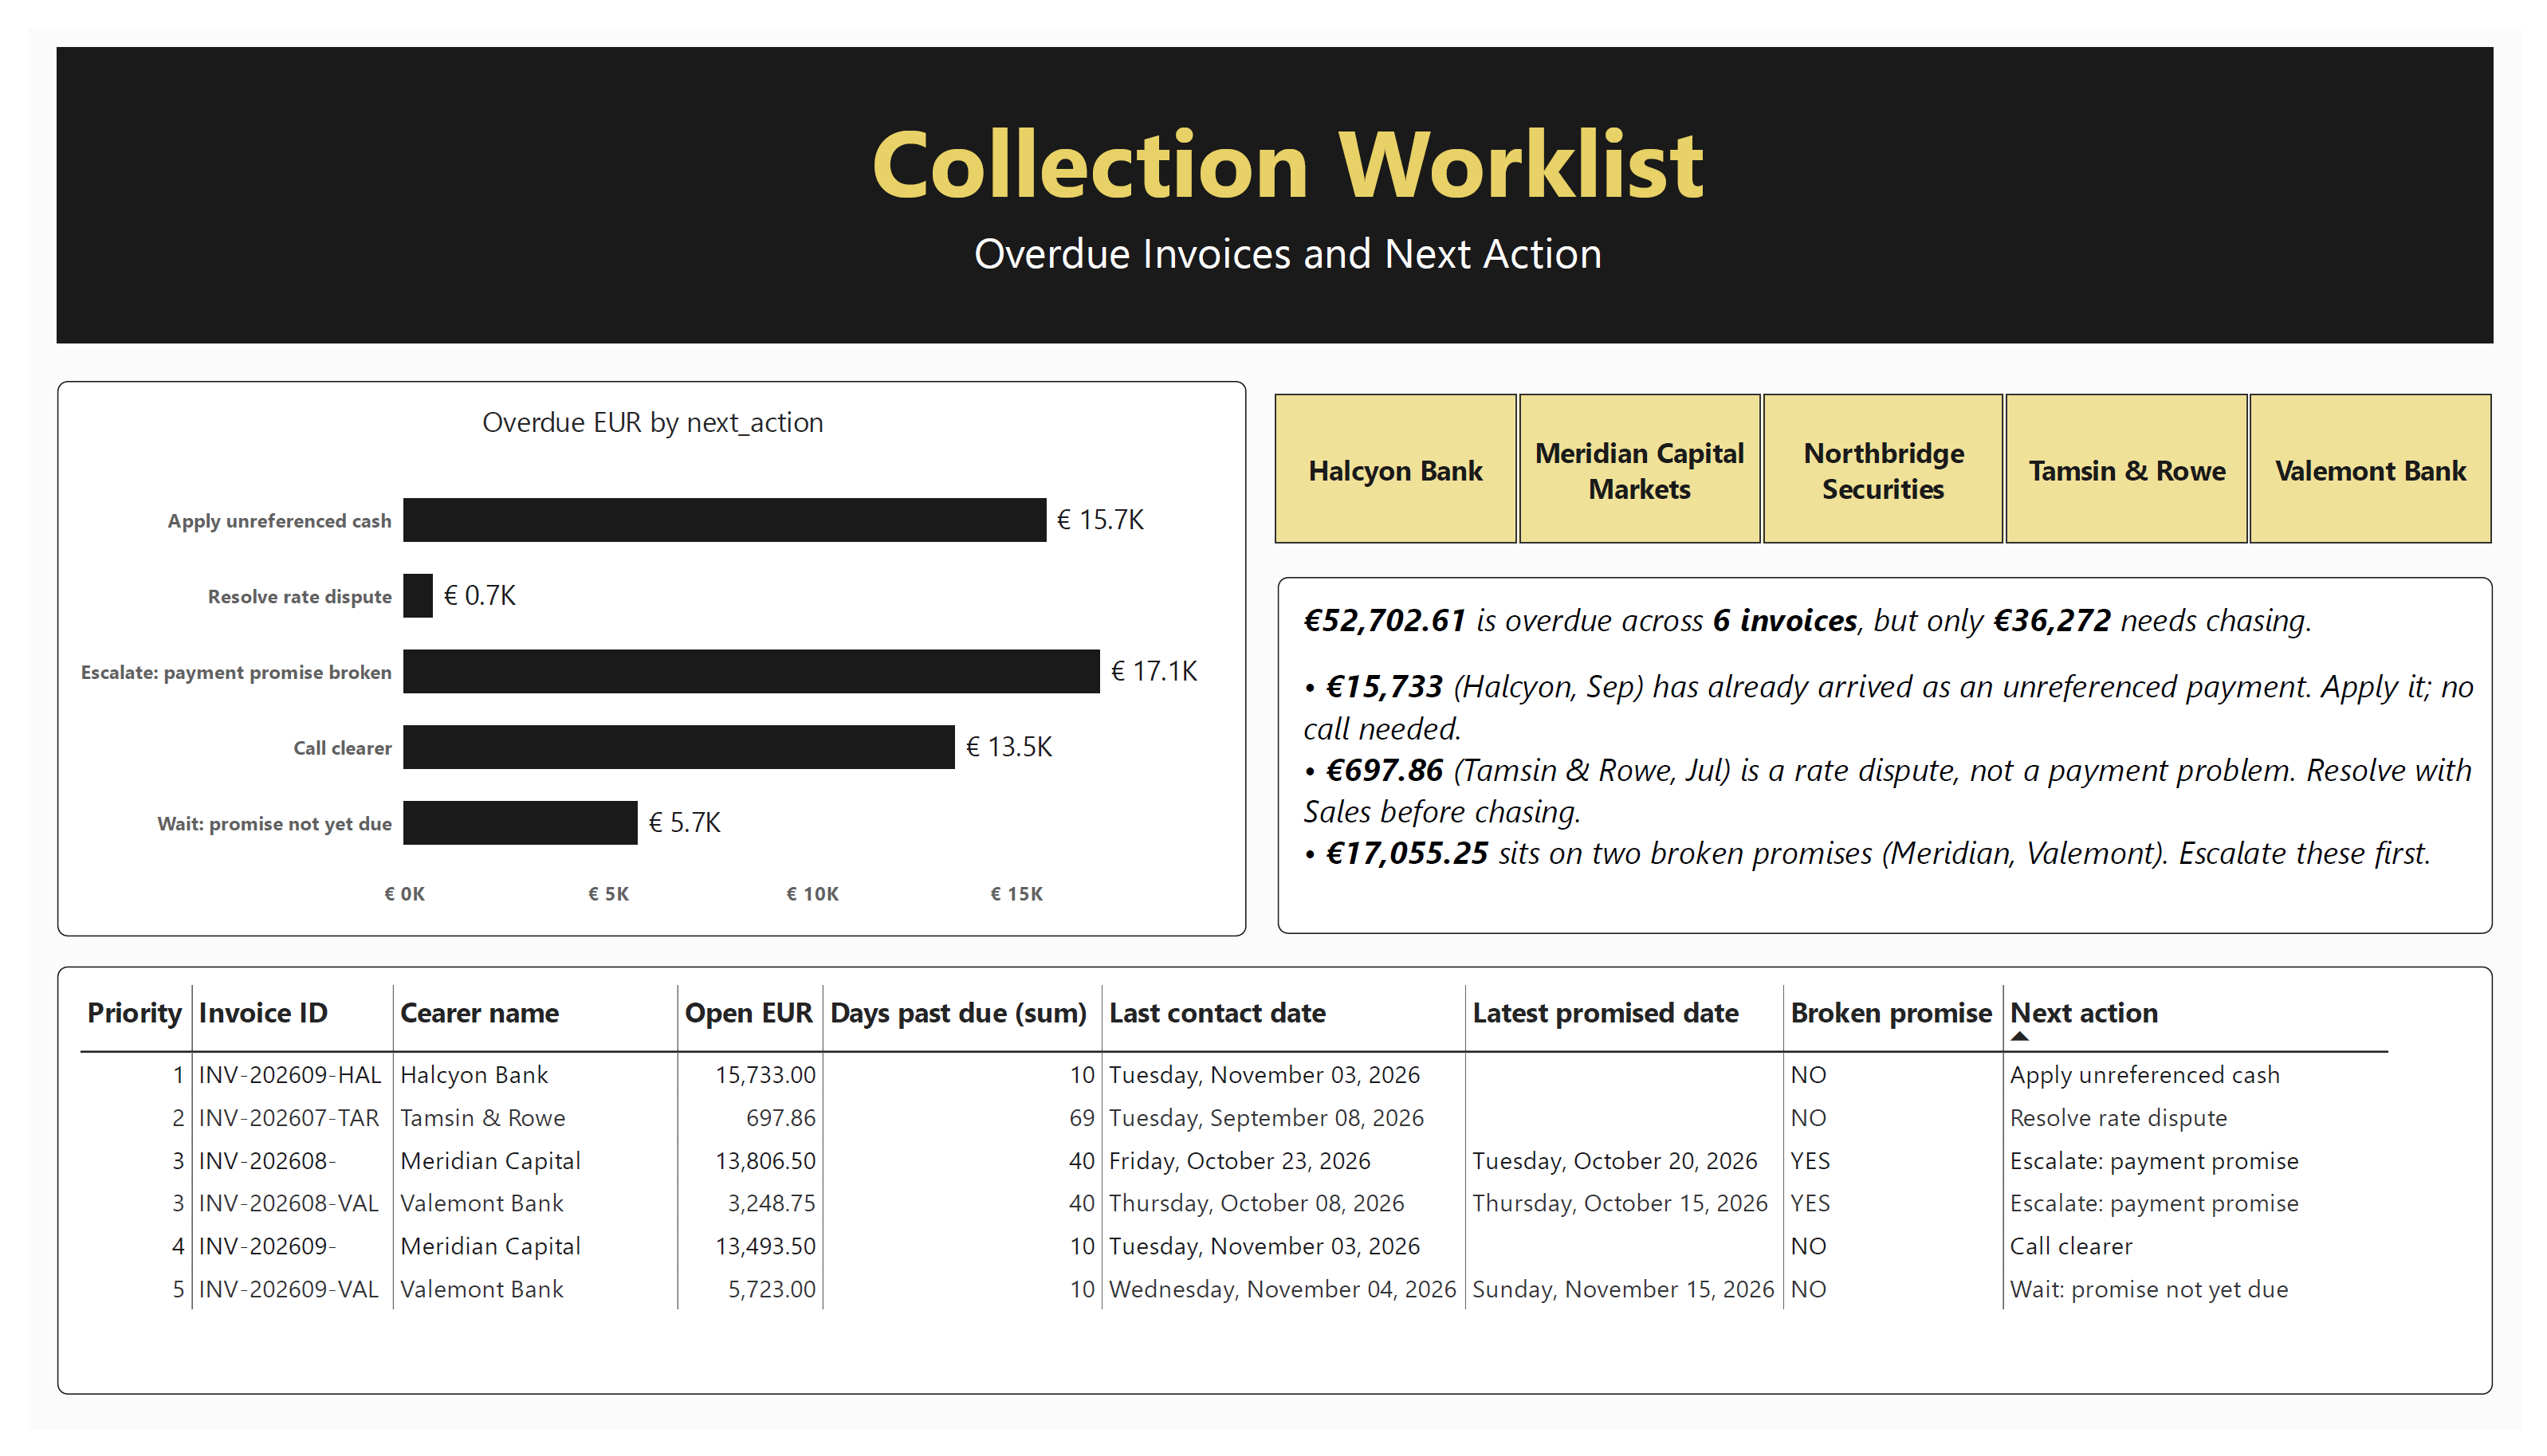

The page's visual inventory and layout, read from the dashboard file:
{"tool":"powerbi","page":{"name":"Collection worklist","canvas":[1920,1080],"ordinal":2},"visuals":[{"type":"textbox","box":[22.1,14.7,1875.5,228.2],"z":0},{"type":"slicer","fields":{"Values":["clearers.clearer_name"]},"box":[938.7,272.4,977.3,134.4],"z":1000},{"type":"clusteredBarChart","fields":{"Category":["collection_worklist.next_action"],"Y":["_Measures.Overdue EUR"]},"box":[21.7,271.7,916.7,428.3],"z":2000},{"type":"tableEx","fields":{"Values":["collection_worklist.priority","collection_worklist.invoice_id","collection_worklist.clearer_name","Sum(collection_worklist.open_eur)","Sum(collection_worklist.days_past_due)","collection_worklist.last_contact_date.Variation.Date Hierarchy.Month","collection_worklist.latest_promised_date.Variation.Date Hierarchy.Month","collection_worklist.broken_promise","collection_worklist.next_action"]},"box":[21.7,723.3,1876.7,330],"z":3000},{"type":"textbox","box":[961.7,423.3,936.7,275],"z":4000}]}

Visuals, with their boxes in screenshot pixels (x1, y1, x2, y2), scaled from the page's 1920x1080 canvas onto the 2547x1456 screenshot:
textbox: bbox(29, 20, 2518, 328)
slicer - clearers.clearer_name: bbox(1245, 367, 2541, 548)
clusteredBarChart - collection_worklist.next_action x _Measures.Overdue EUR: bbox(29, 367, 1245, 944)
tableEx - collection_worklist.priority x collection_worklist.invoice_id: bbox(29, 975, 2518, 1420)
textbox: bbox(1275, 571, 2518, 941)
